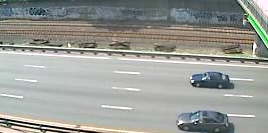car: (174, 107, 231, 133), (187, 69, 234, 92)
